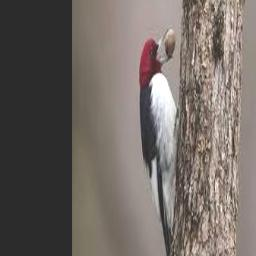Woodpecker: (139, 27, 179, 256)
